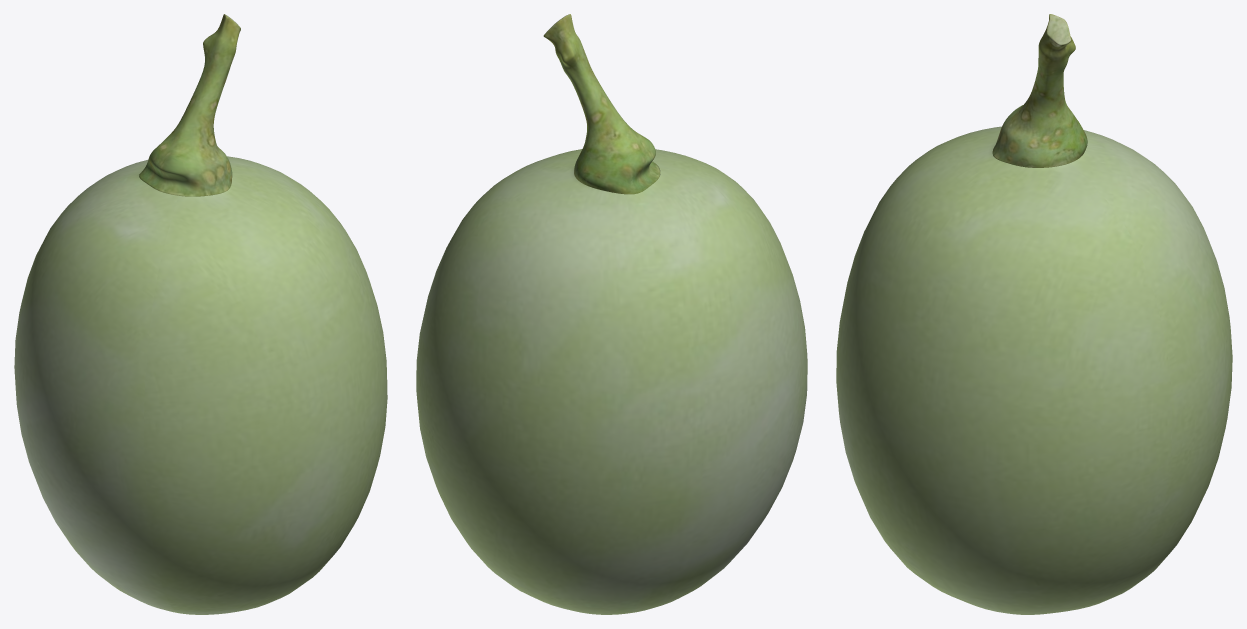
The model's file is green_grape.fbx.
The picture shows the model from 3 angles, left to right: view 1: azimuth 30°, elevation 25°; view 2: azimuth 150°, elevation 25°; view 3: azimuth 270°, elevation 25°; orthographic projection. The views are drawn at different scales.
Parts seen in each view (by area): view 1: GreenGrapePeel, GreenGrapeStalk; view 2: GreenGrapePeel, GreenGrapeStalk; view 3: GreenGrapePeel, GreenGrapeStalk.
Part boxes in pixels (x1,y1,x2,y2): GreenGrapePeel: [14, 156, 387, 614]; GreenGrapeStalk: [139, 14, 240, 196]; GreenGrapePeel: [416, 149, 807, 614]; GreenGrapeStalk: [543, 14, 660, 194]; GreenGrapePeel: [836, 126, 1232, 614]; GreenGrapeStalk: [992, 14, 1087, 167].
Size of what is drawn, in the model's own units: 2.12 by 2.1 by 3.53.
